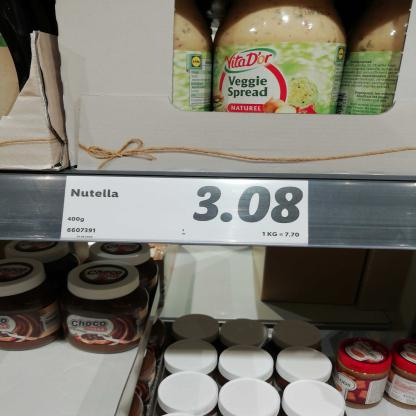prtg: (61, 177, 309, 246)
